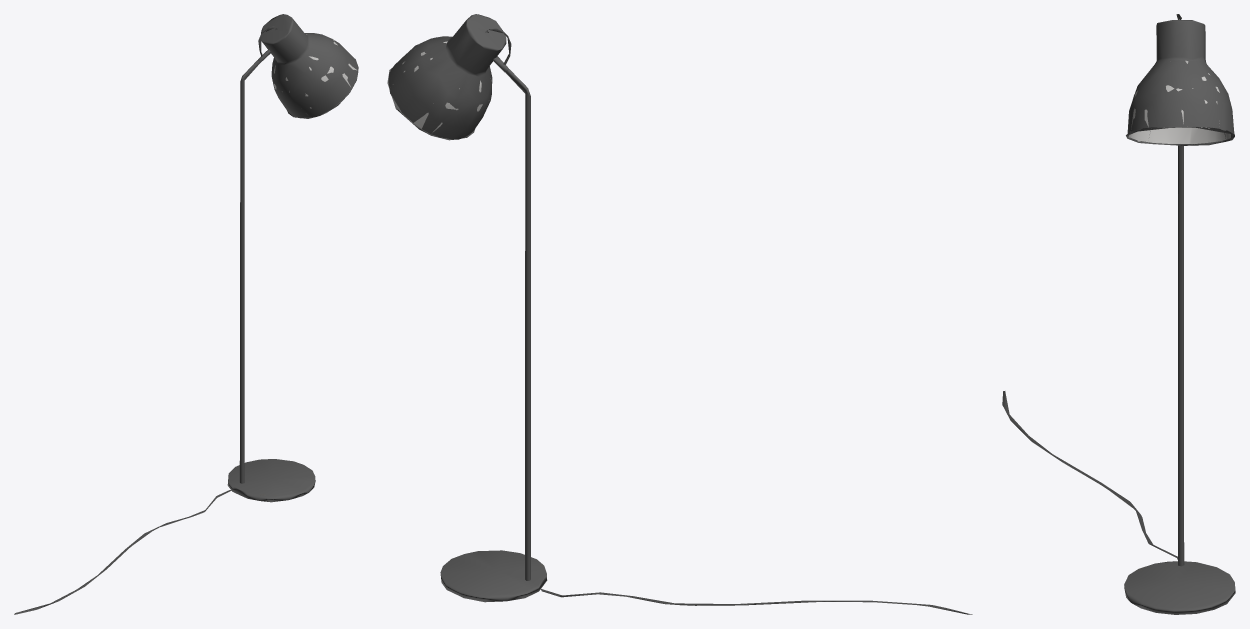
Rendered from Light0002.obj.
3 renders of one model, left to right at view 1: azimuth 30°, elevation 25°; view 2: azimuth 150°, elevation 25°; view 3: azimuth 270°, elevation 25°, orthographic. The views are drawn at different scales.
Bounding box in the file's own units: 1.45 × 1.58 × 0.571.
Materials: 1 (1 with a texture image).
